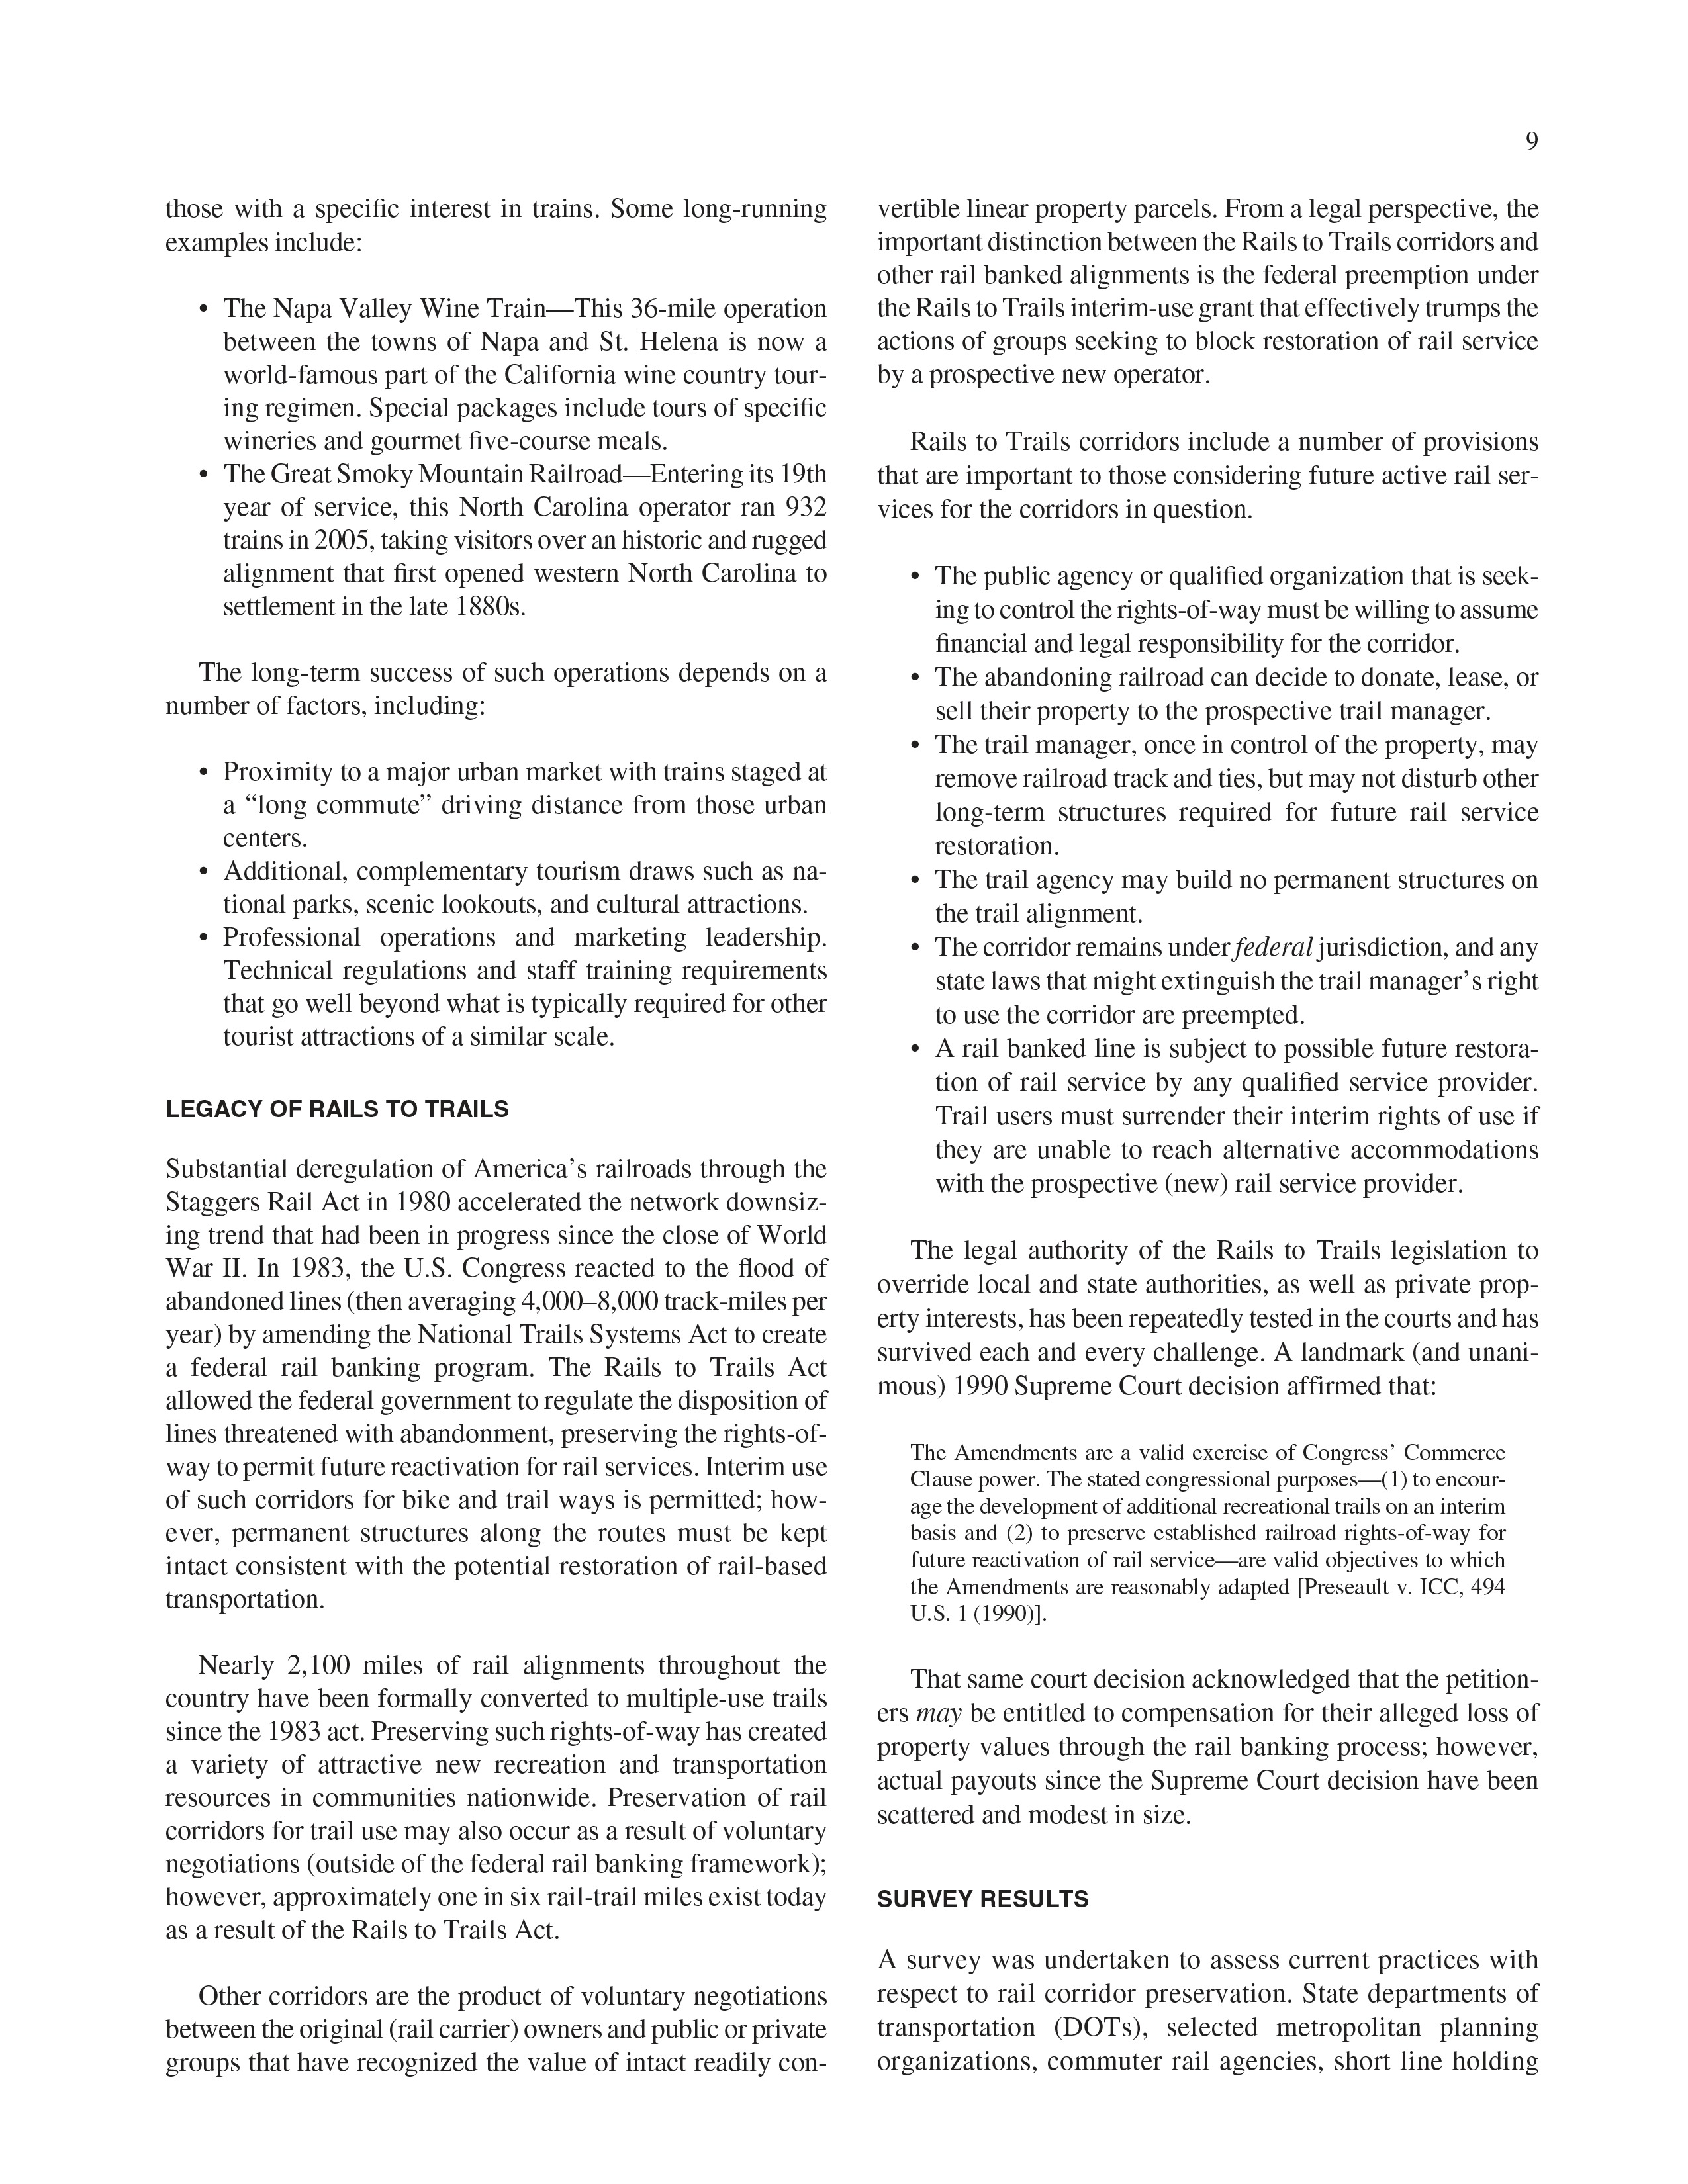list: (892, 546, 1553, 1202), (186, 284, 842, 645), (179, 750, 853, 1060)
section: (149, 1087, 525, 1136), (865, 1884, 1099, 1927)
text: (156, 1170, 837, 1629), (161, 1661, 830, 1950), (879, 188, 1546, 386), (869, 1228, 1550, 1411), (895, 1454, 1527, 1638), (872, 1679, 1560, 1840), (862, 1954, 1550, 2078), (865, 413, 1560, 532), (172, 1975, 830, 2085), (152, 179, 839, 257), (149, 658, 849, 727)
